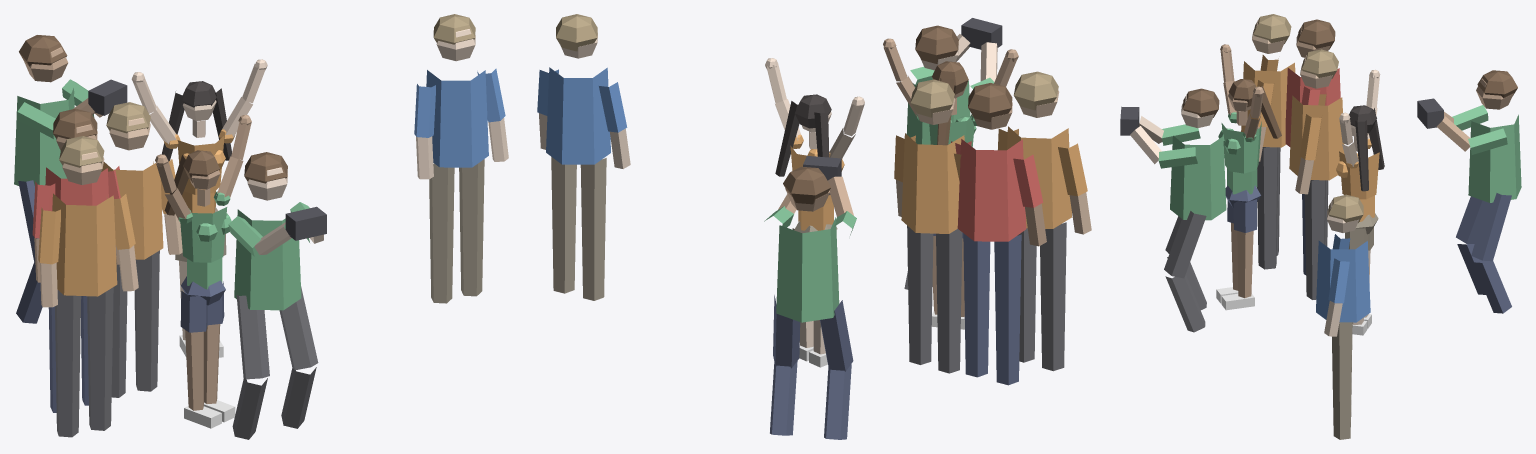
File: crowd_fans_group_b.glb
3 renders of one model, left to right at view 1: azimuth 30°, elevation 25°; view 2: azimuth 150°, elevation 25°; view 3: azimuth 270°, elevation 25°, orthographic. The views are drawn at different scales.
Parts seen in each view (by area): view 1: crowd_fans_group_b; view 2: crowd_fans_group_b; view 3: crowd_fans_group_b.
Part boxes in pixels (x1=…): crowd_fans_group_b: x1=14, y1=14, x2=508, y2=439; crowd_fans_group_b: x1=537, y1=14, x2=1091, y2=439; crowd_fans_group_b: x1=1120, y1=14, x2=1521, y2=439.
Bounding box in the file's own units: 3.33 × 1.86 × 2.71.
